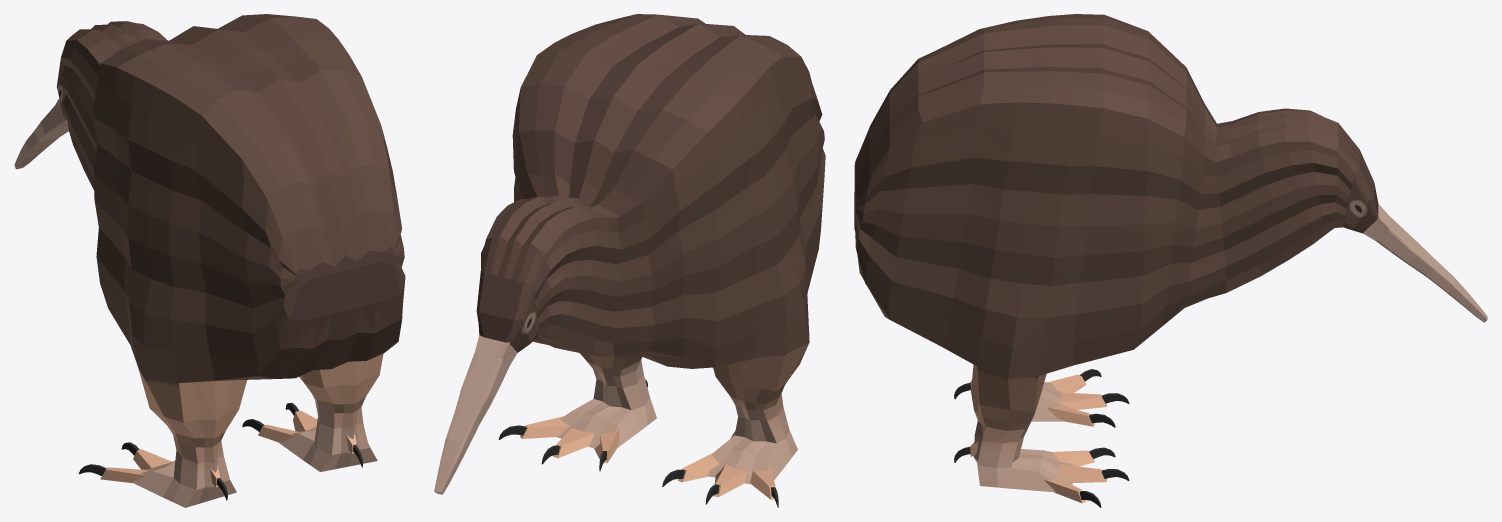
Rendered from Kiwi.fbx.
3 views of the same model, side by side, from view 1: azimuth 30°, elevation 25°; view 2: azimuth 150°, elevation 25°; view 3: azimuth 270°, elevation 25° (orthographic). The views are drawn at different scales.
Visible parts, largest first — view 1: Cylinder.001; view 2: Cylinder.001; view 3: Cylinder.001.
Part boxes in pixels (x1,y1,x2,y2): Cylinder.001: (14,14,405,507); Cylinder.001: (434,14,825,507); Cylinder.001: (854,14,1487,507).
Bounding box in the file's own units: 232 × 326 × 473.
